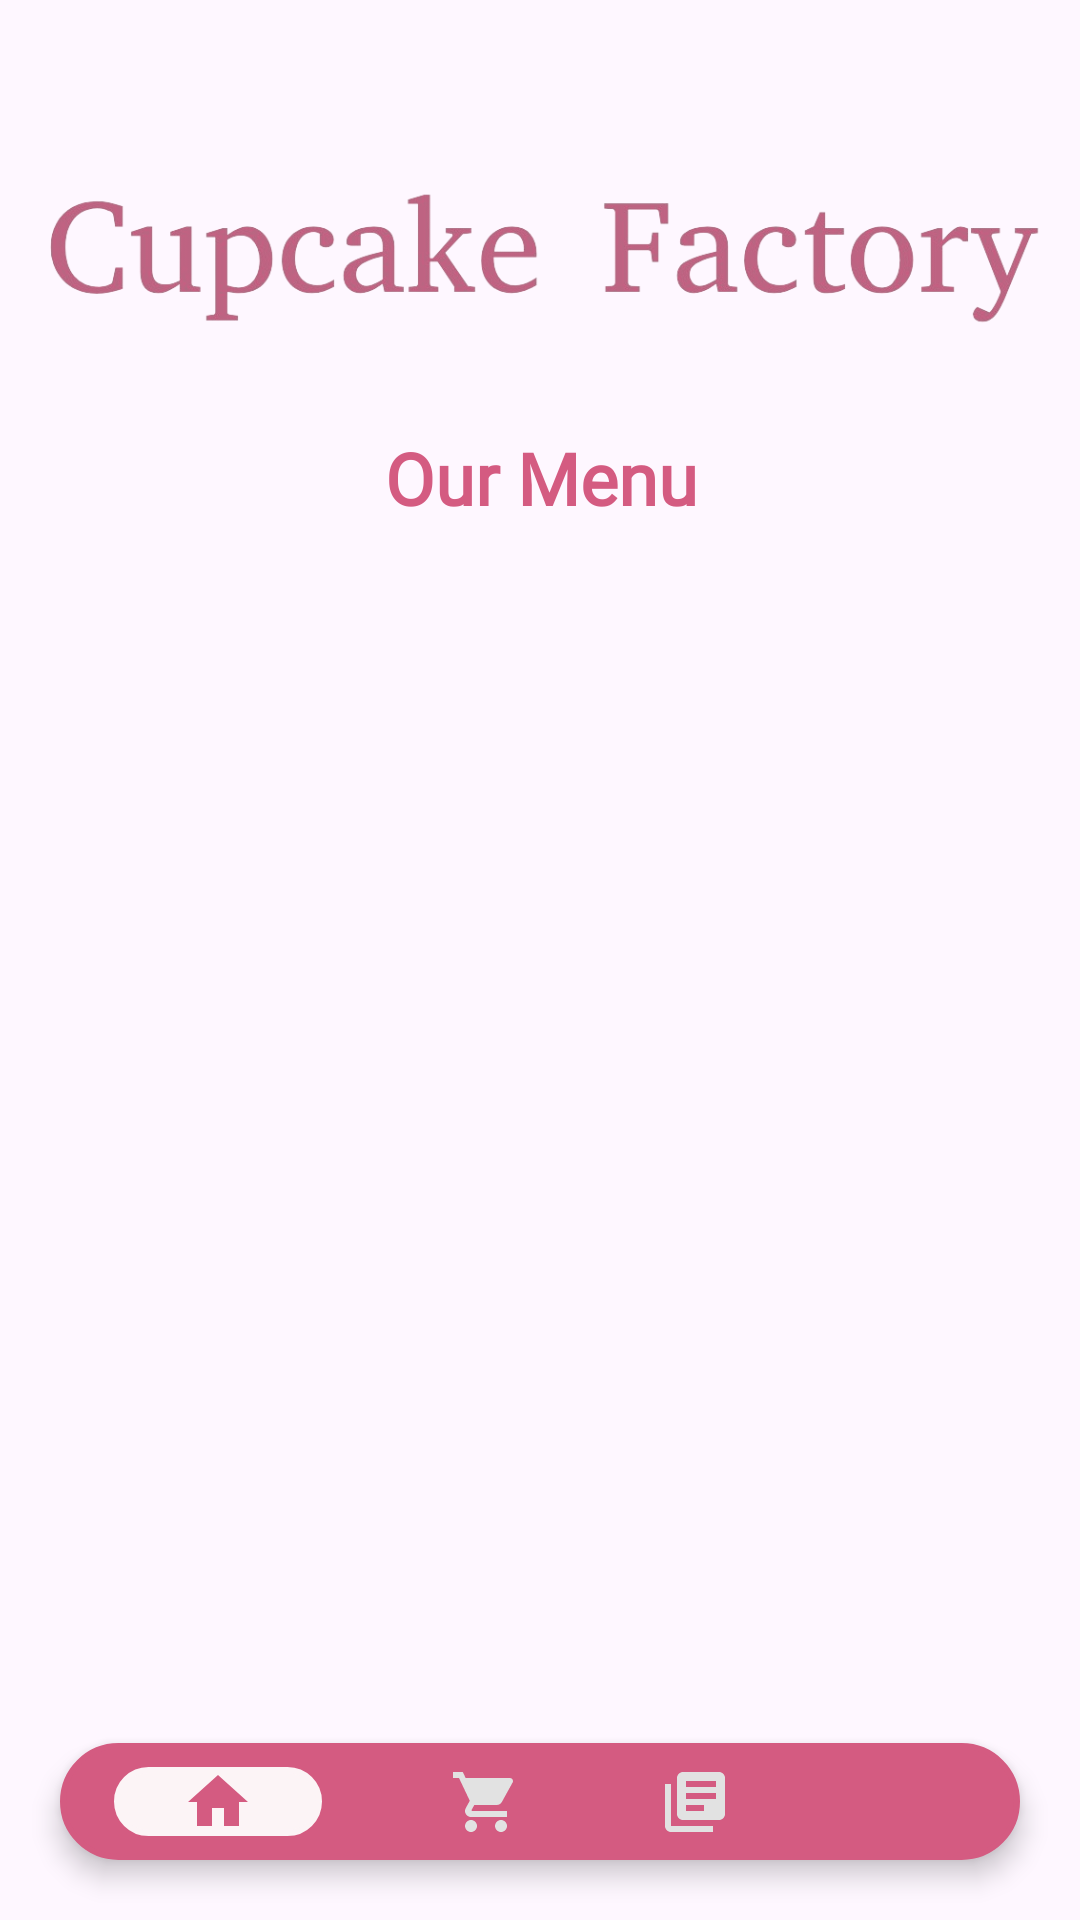

Named icons in this screenshot (1080 x 1920) and their bounding boxes, box(x1, y1, x2, y2):
cart: box(453, 1772, 513, 1832)
home: box(114, 1767, 322, 1836)
orders: box(665, 1772, 725, 1832)
